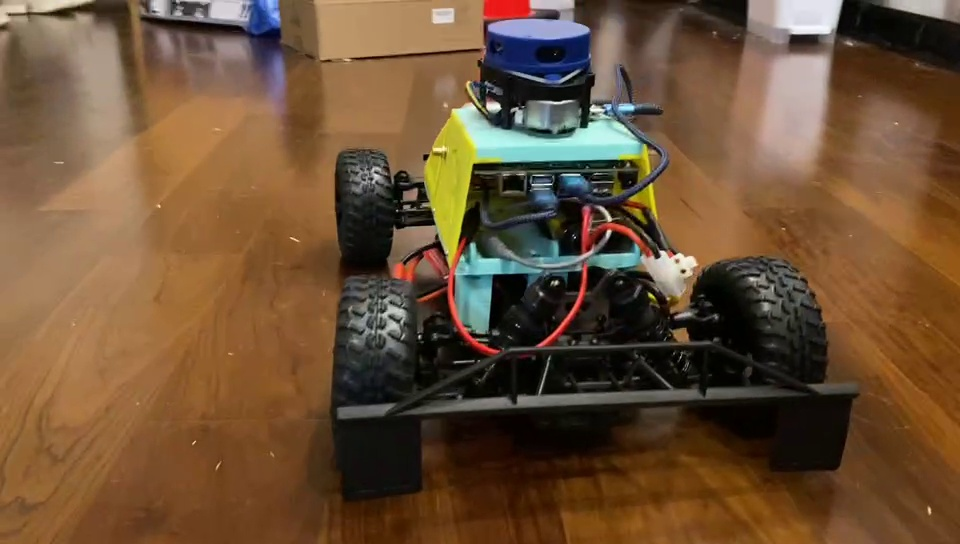mushr_car: (325, 13, 860, 502)
